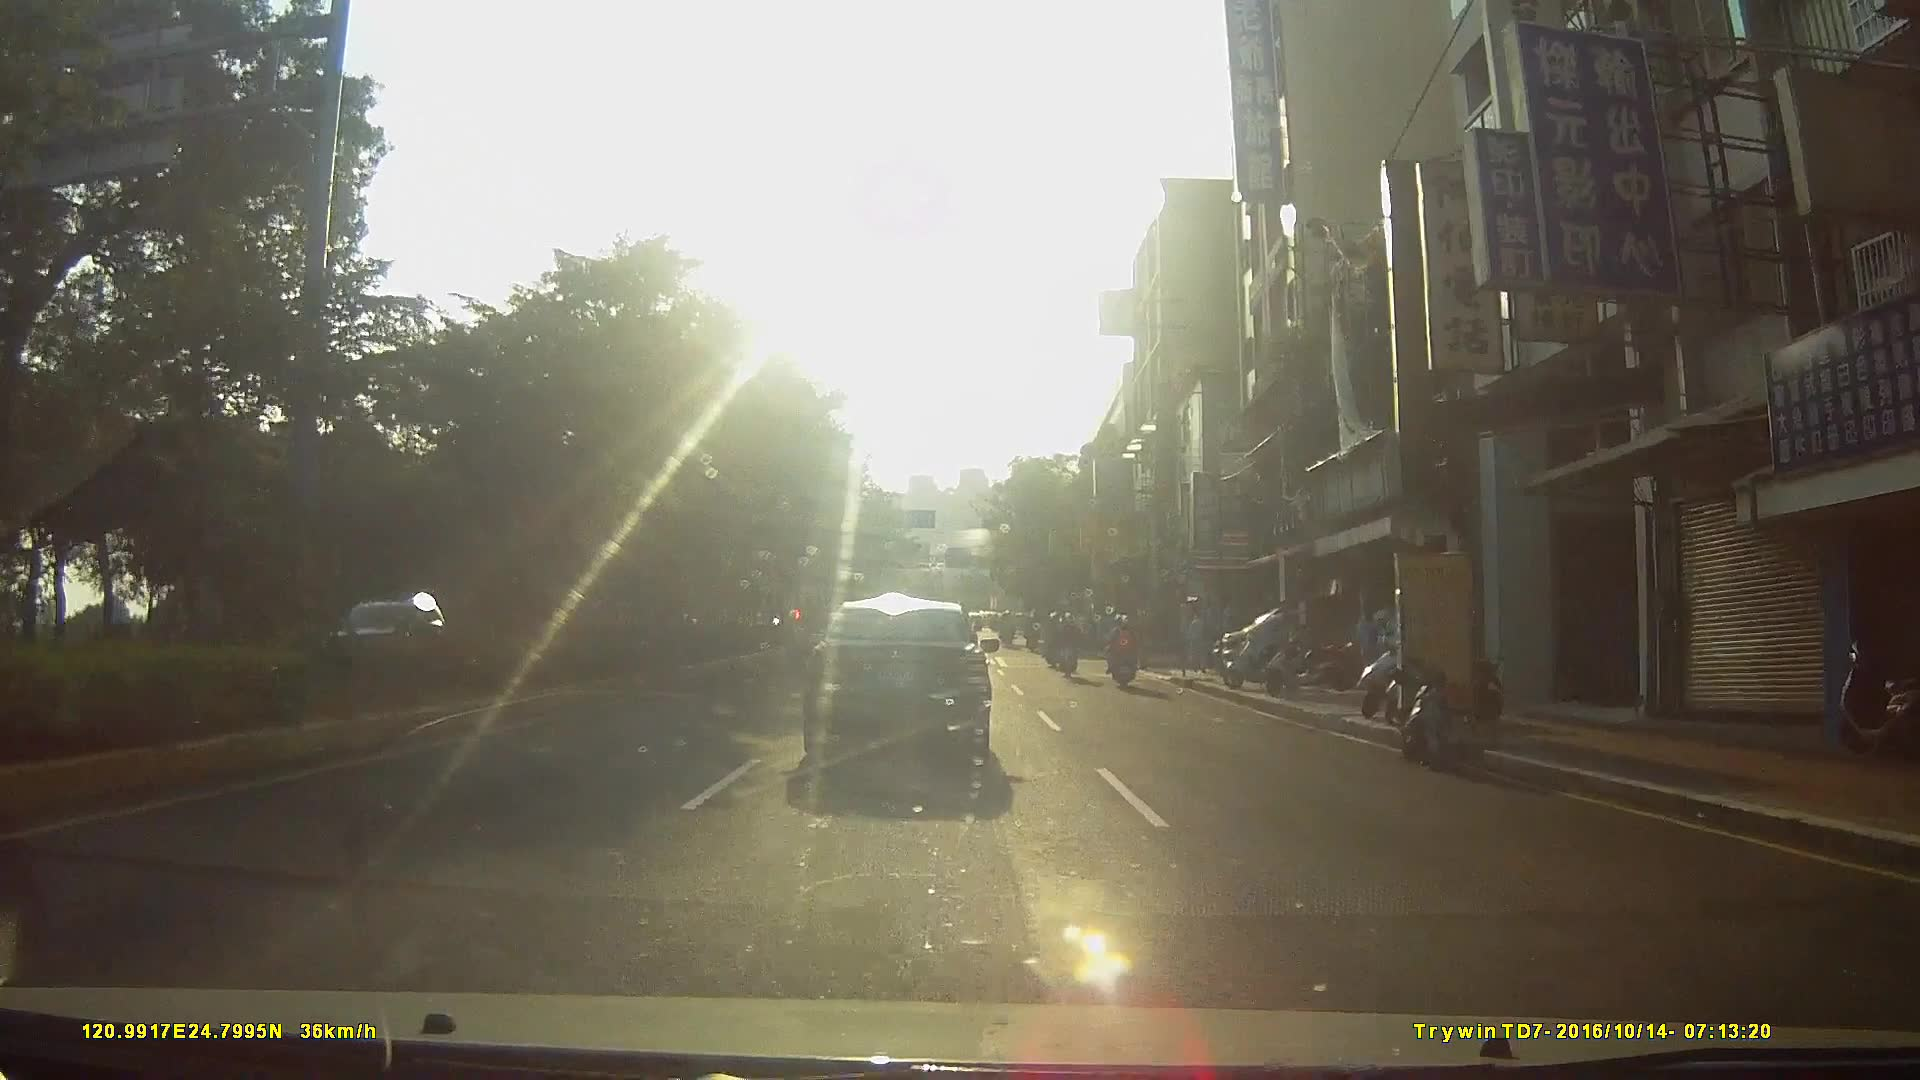rider: (1106, 613, 1138, 690), (1055, 612, 1082, 680), (1043, 612, 1066, 671)
vehicle: (800, 597, 1016, 788)
